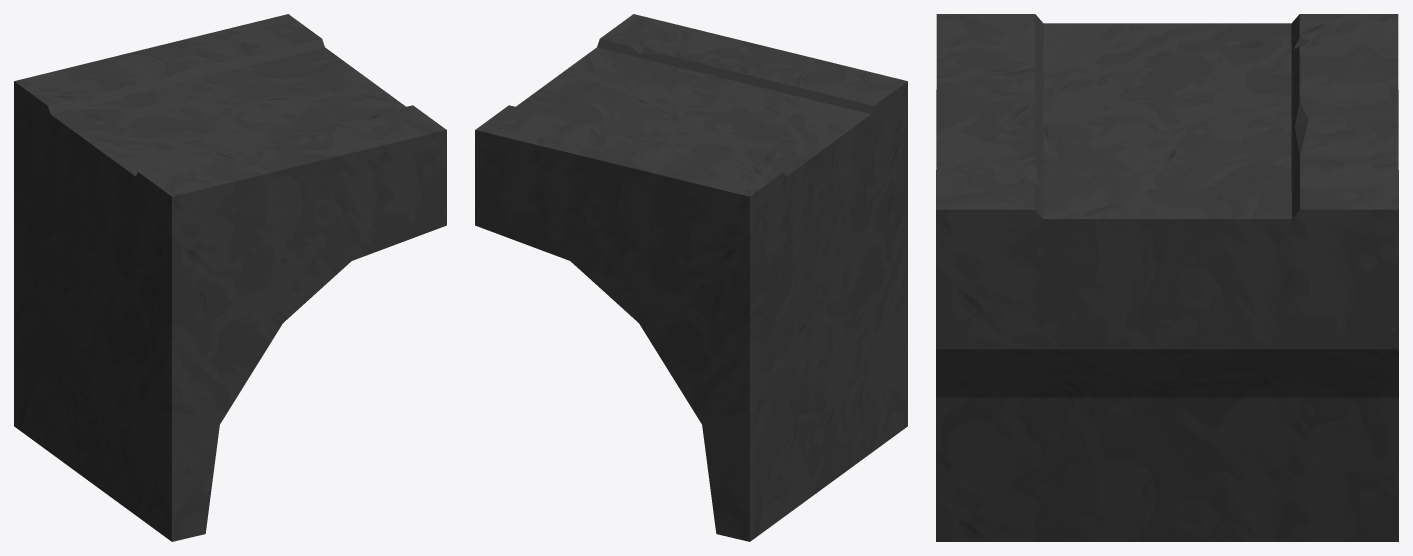
Rendered from isle_bridge.gltf.
The picture shows the model from 3 angles, left to right: view 1: azimuth 30°, elevation 25°; view 2: azimuth 150°, elevation 25°; view 3: azimuth 270°, elevation 25°; orthographic projection. The views are drawn at different scales.
Parts seen in each view (by area): view 1: isle_bridge; view 2: isle_bridge; view 3: isle_bridge.
Part boxes in pixels (x1=…): isle_bridge: x1=14, y1=14, x2=446, y2=541; isle_bridge: x1=475, y1=14, x2=907, y2=541; isle_bridge: x1=936, y1=14, x2=1398, y2=541.
Size of the model in its own units: 5 by 6.01 by 5.
1 material, 1 textured.
